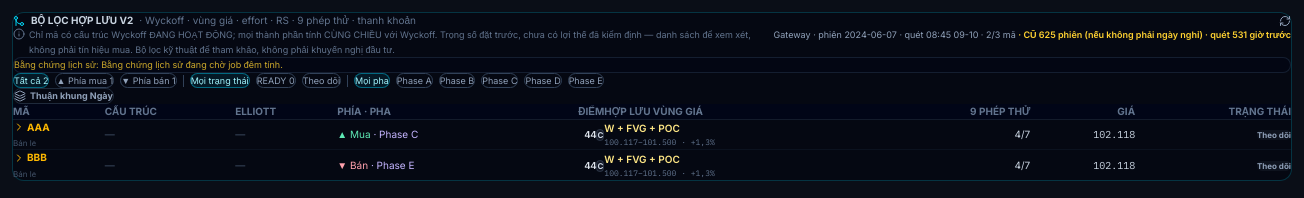
Test: Bộ lọc Hợp lưu v2 — danh sách (H2) › toàn bộ kết quả, thời điểm quét, bằng chứng đang chờ; lọc theo phía và pha
The width and height of the screenshot is (1304, 198).
Expected: the number of rows with test id "convergence-row" is 2, [13, 119, 1291, 150]; [13, 150, 1291, 180]
Expected: the text with test id "evidence-pending" shows "đang chờ job đêm", [101, 59, 283, 70]
Click the button with test id "filter-sell".
click(148, 81)  # box [120, 73, 177, 88]
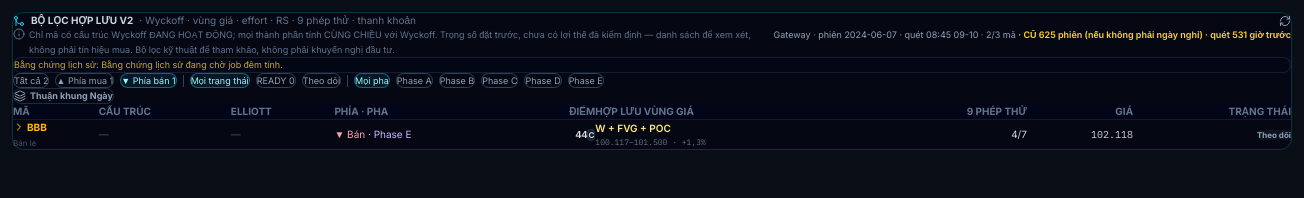
Click the button with test id "filter-phase-E".
click(586, 81)  # box [568, 73, 604, 88]
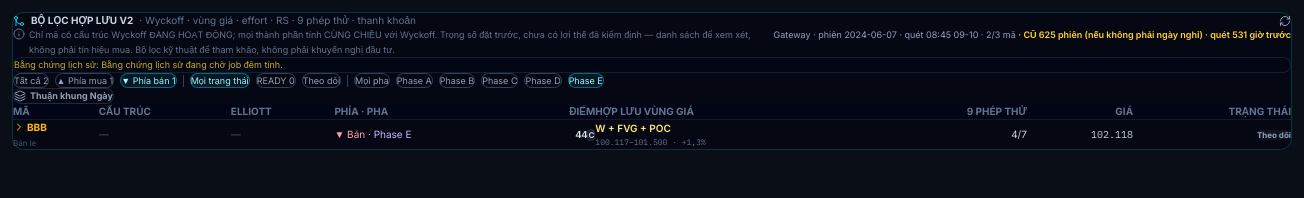
Now the number of rows with test id "convergence-row" is 1, box [13, 119, 1291, 149]
Click the button with test id "filter-buy".
click(85, 81)  # box [56, 73, 114, 88]
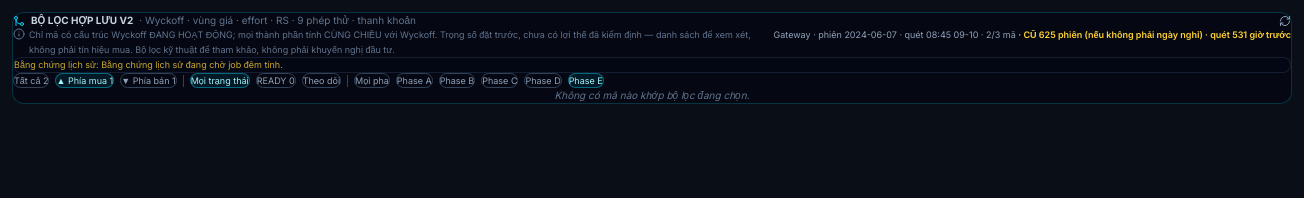
Now the text "Không có mã nào khớp bộ lọc" is shown, box [554, 89, 749, 101]
